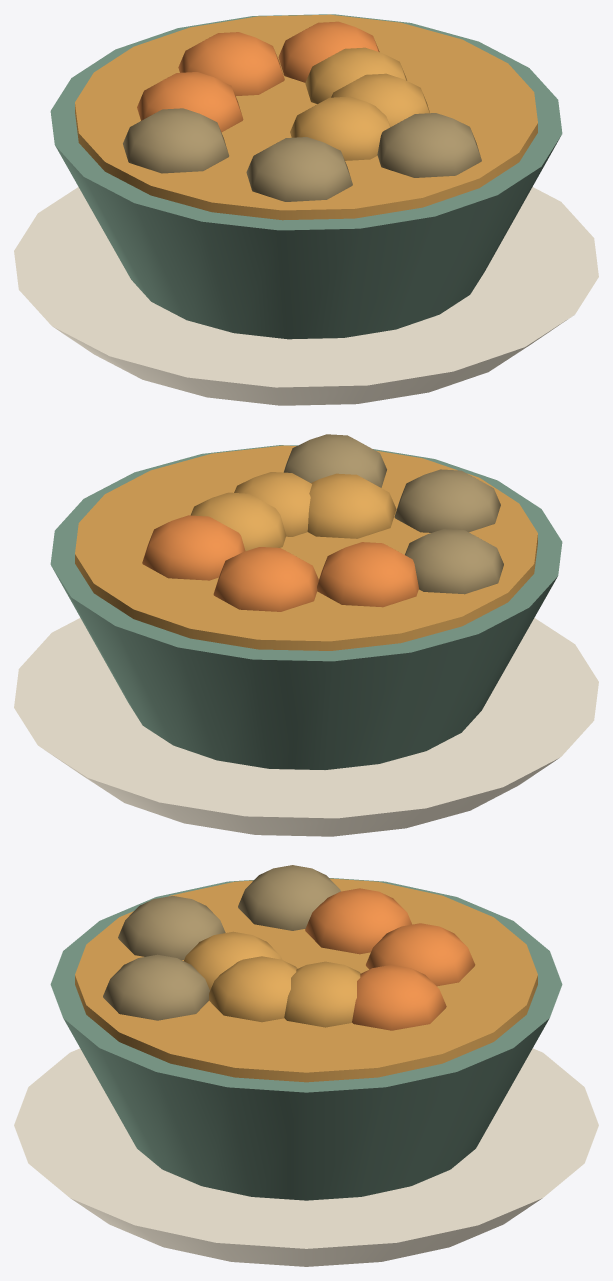
Rendered from gardenSoup.glb.
3 views of the same model, one above another, from view 1: azimuth 30°, elevation 25°; view 2: azimuth 150°, elevation 25°; view 3: azimuth 270°, elevation 25° (orthographic).
Size of the model in its own units: 0.96 by 0.408 by 0.96.
